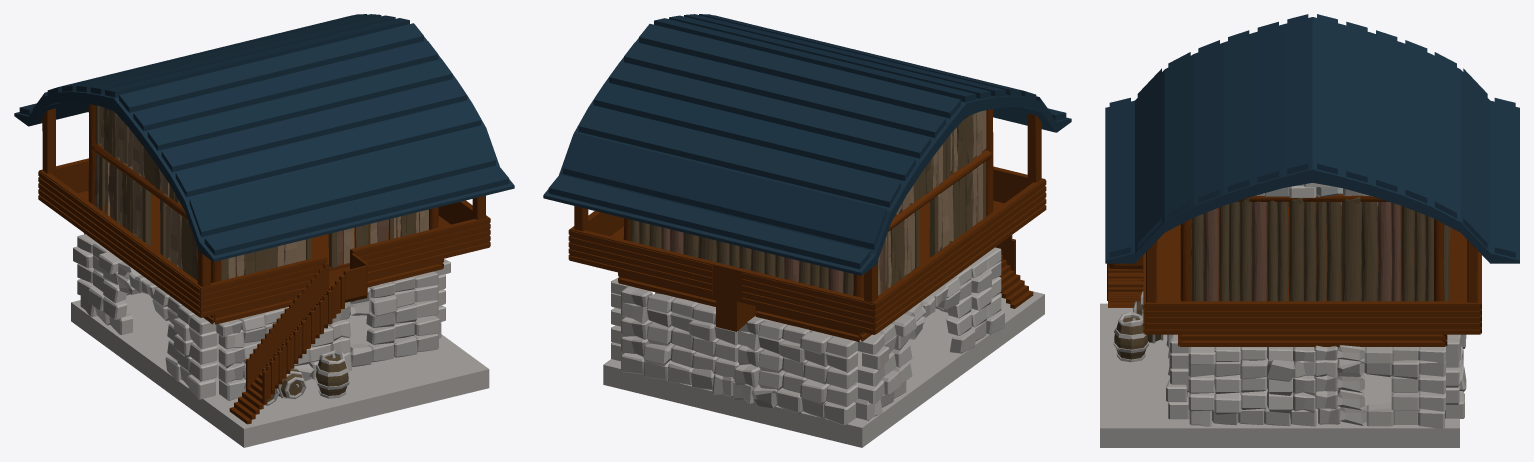
File: Tavern.fbx
3 renders of one model, left to right at view 1: azimuth 30°, elevation 25°; view 2: azimuth 150°, elevation 25°; view 3: azimuth 270°, elevation 25°, orthographic. The views are drawn at different scales.
Parts seen in each view (by area): view 1: Tavern; view 2: Tavern; view 3: Tavern.
Part boxes in pixels (x1,y1,x2,y2): Tavern: (14, 14, 514, 447); Tavern: (543, 14, 1071, 447); Tavern: (1100, 14, 1519, 447).
Size of the model in its own units: 1669 by 1512 by 1937.
